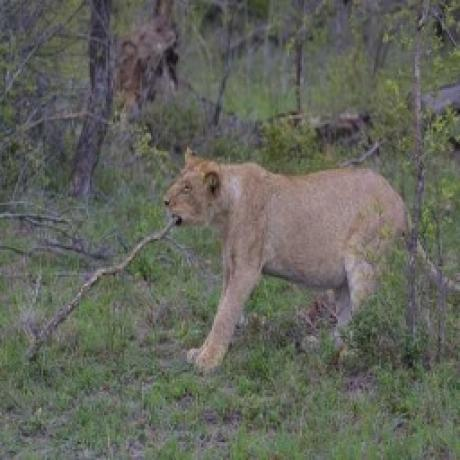Lion: (158, 142, 460, 364)
